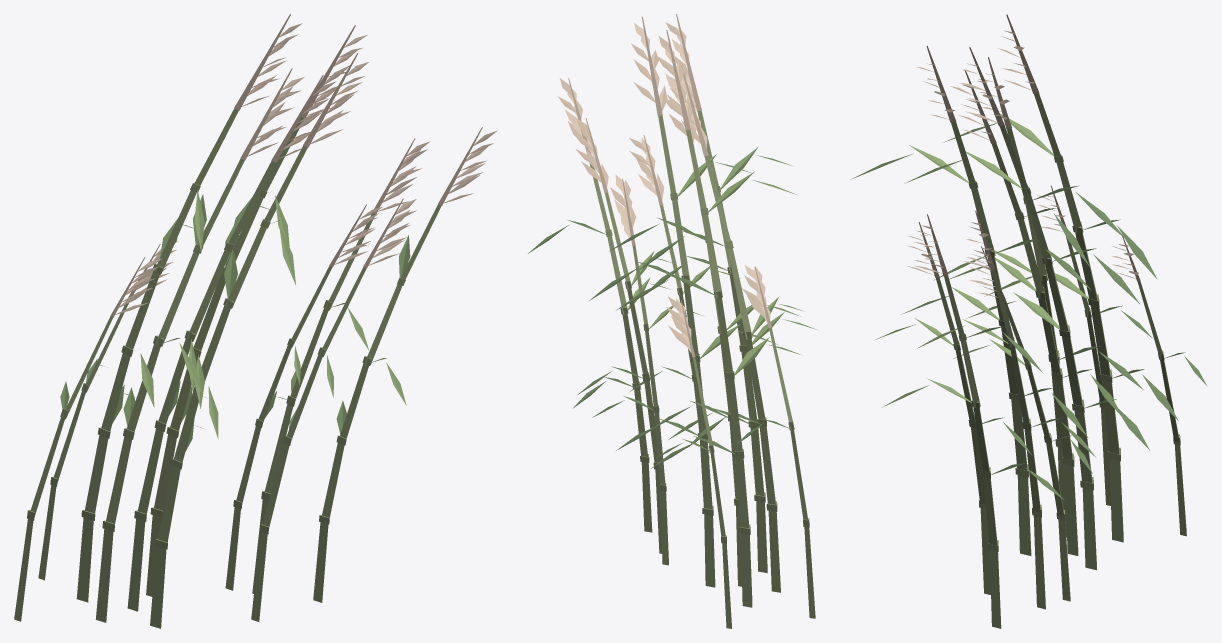
File: shui.luweidang__summer.glb
The picture shows the model from 3 angles, left to right: view 1: azimuth 30°, elevation 25°; view 2: azimuth 150°, elevation 25°; view 3: azimuth 270°, elevation 25°; orthographic projection. The views are drawn at different scales.
Parts seen in each view (by area): view 1: shui.luweidang__summer; view 2: shui.luweidang__summer; view 3: shui.luweidang__summer.
Part boxes in pixels (x1=…): shui.luweidang__summer: x1=14, y1=14, x2=497, y2=628; shui.luweidang__summer: x1=528, y1=14, x2=816, y2=628; shui.luweidang__summer: x1=850, y1=14, x2=1206, y2=628.
Bounding box in the file's own units: 3.04 × 4.39 × 2.37.
